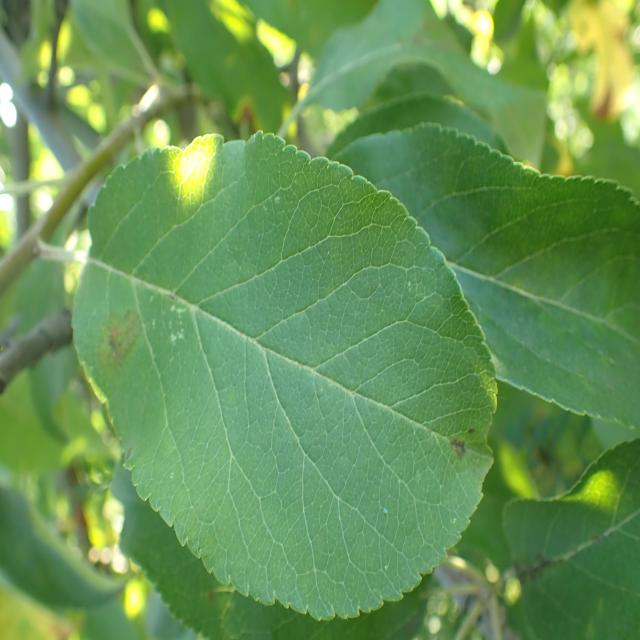scab: (72, 188, 498, 551)
